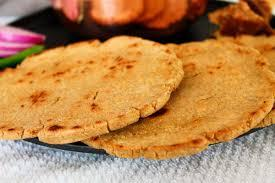bhakri: (92, 38, 274, 164), (0, 37, 181, 143)
